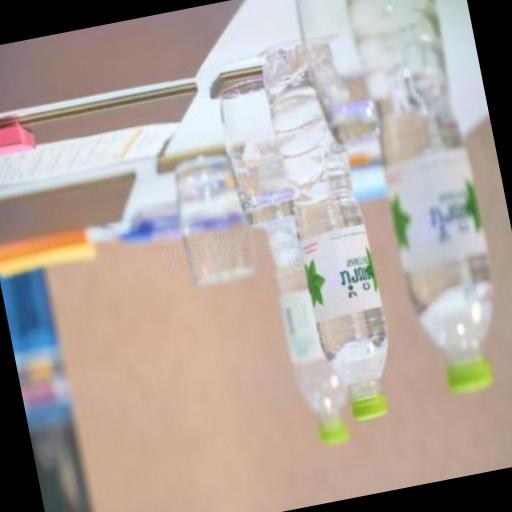Coca: (337, 0, 512, 411), (252, 29, 410, 434), (246, 132, 372, 462)
